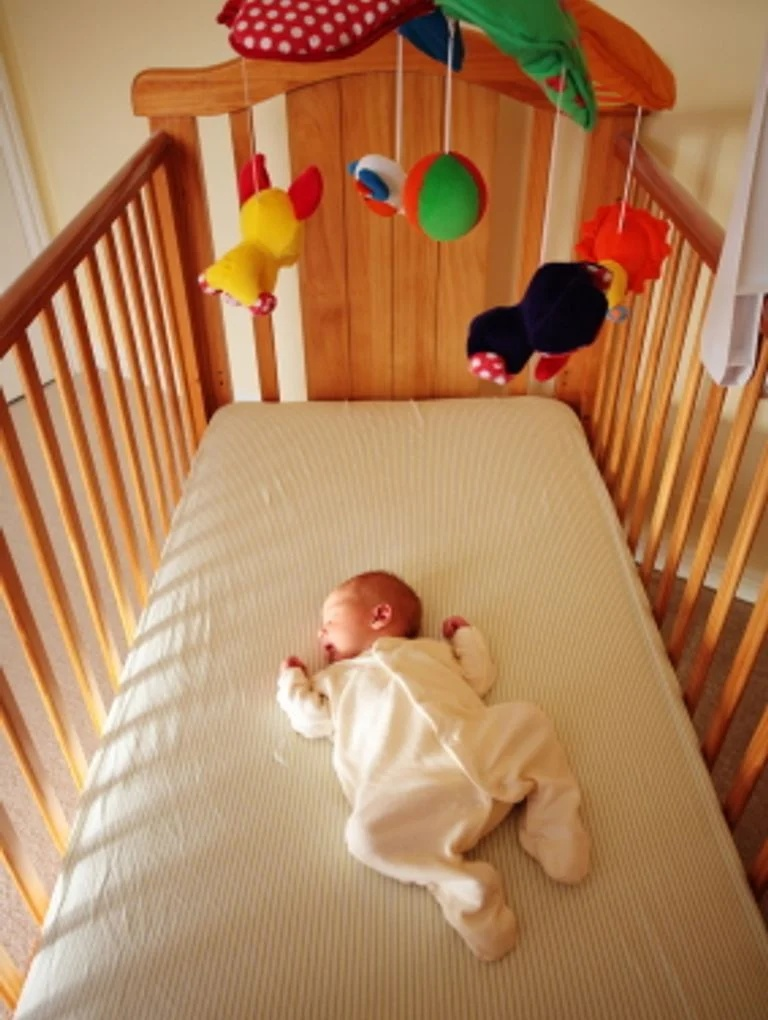baby: (277, 571, 589, 959)
crib: (0, 33, 555, 853)
